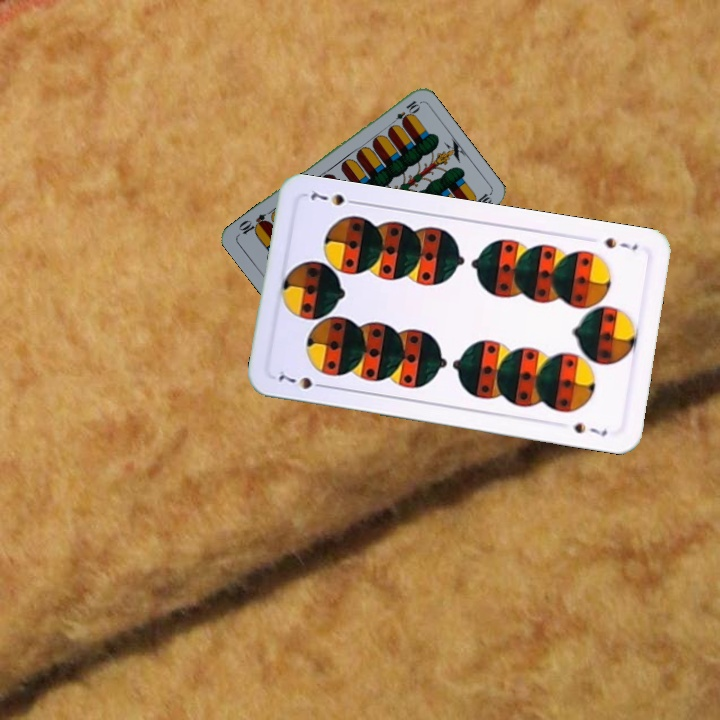E10: (386, 96, 422, 129)
S7: (274, 370, 330, 392), (600, 233, 640, 253)
